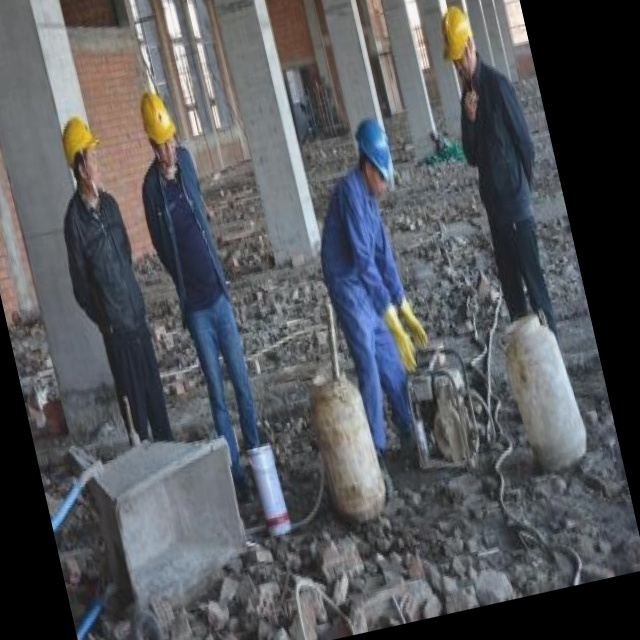Con_Casco: (348, 118, 400, 194), (135, 84, 179, 158)
Sin_Chaleco: (59, 189, 145, 336)
